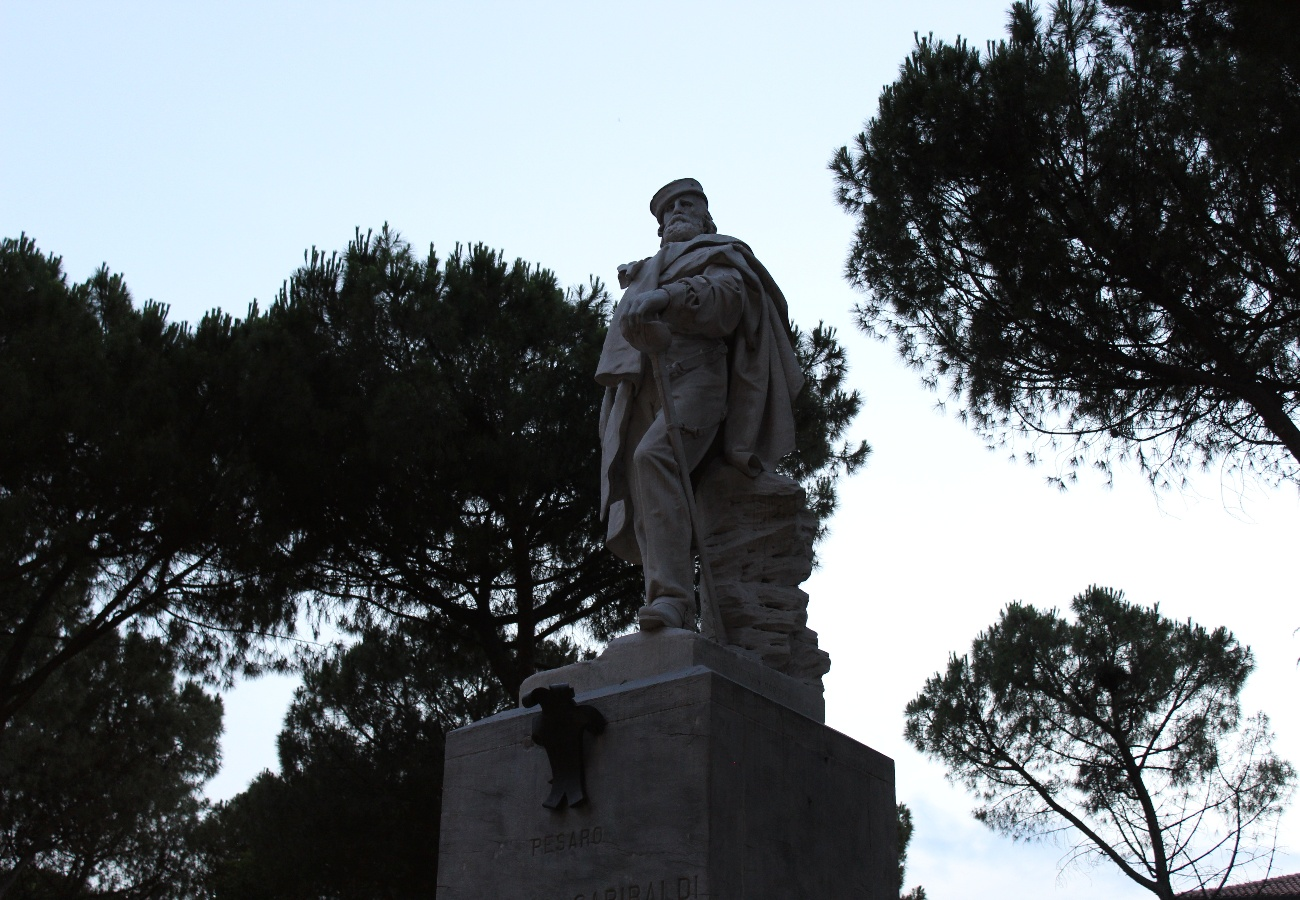Giuseppe Garibaldi: (598, 178, 807, 696)
